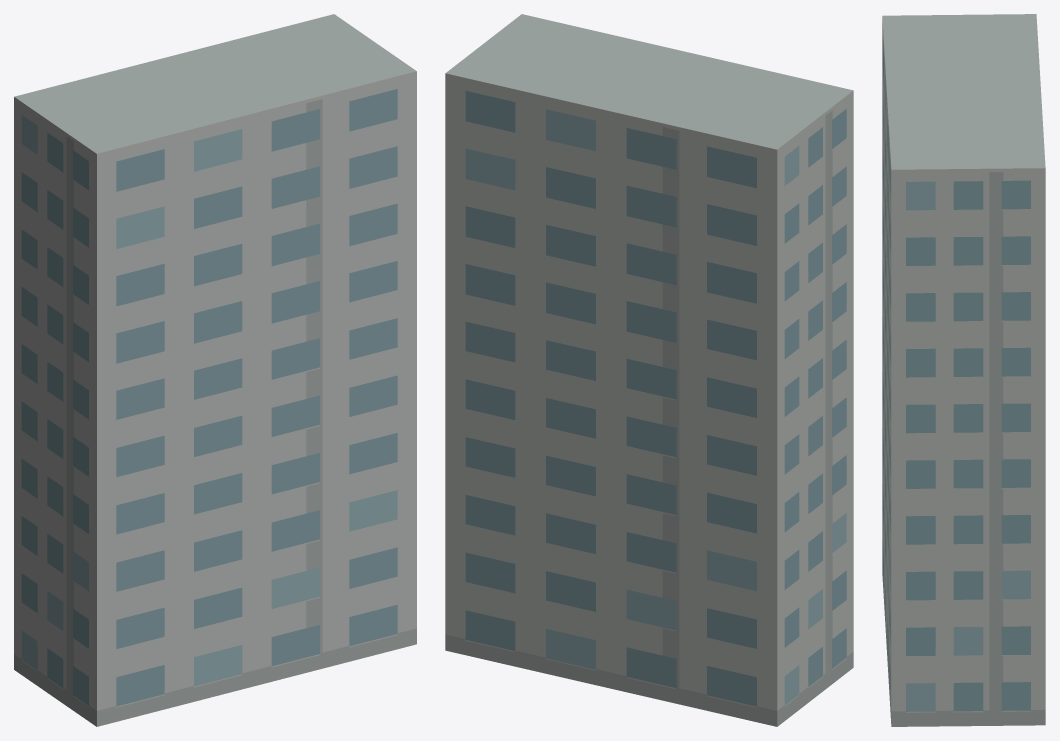
File: residential-a1d79825-1640-4651-b204-2a445c84db14.glb
The picture shows the model from 3 angles, left to right: view 1: azimuth 30°, elevation 25°; view 2: azimuth 150°, elevation 25°; view 3: azimuth 270°, elevation 25°; orthographic projection. The views are drawn at different scales.
Parts seen in each view (by area): view 1: residential-a1d79825-1640-4651-b204-2a445c84db14.tmp; view 2: residential-a1d79825-1640-4651-b204-2a445c84db14.tmp; view 3: residential-a1d79825-1640-4651-b204-2a445c84db14.tmp.
Part boxes in pixels (bbox=[...]): residential-a1d79825-1640-4651-b204-2a445c84db14.tmp: bbox=[14, 14, 416, 726]; residential-a1d79825-1640-4651-b204-2a445c84db14.tmp: bbox=[445, 14, 853, 726]; residential-a1d79825-1640-4651-b204-2a445c84db14.tmp: bbox=[882, 14, 1045, 726].
Size of the model in its own units: 23.99 by 40 by 10.63.
